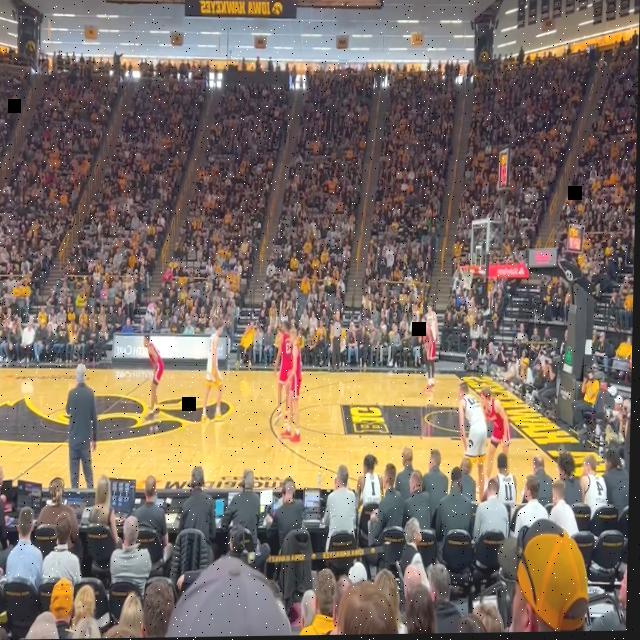basket: (460, 266, 477, 291)
game clock: (571, 229, 579, 238)
head coach: (65, 364, 102, 488)
player-iowa: (458, 383, 489, 504), (203, 319, 228, 424), (426, 304, 441, 382)
player-neb: (479, 387, 515, 495), (281, 331, 305, 443), (144, 333, 167, 422), (275, 322, 294, 426), (422, 317, 439, 393)
referee: (624, 351, 634, 489), (331, 311, 345, 373)
shot clock: (572, 239, 580, 251)
